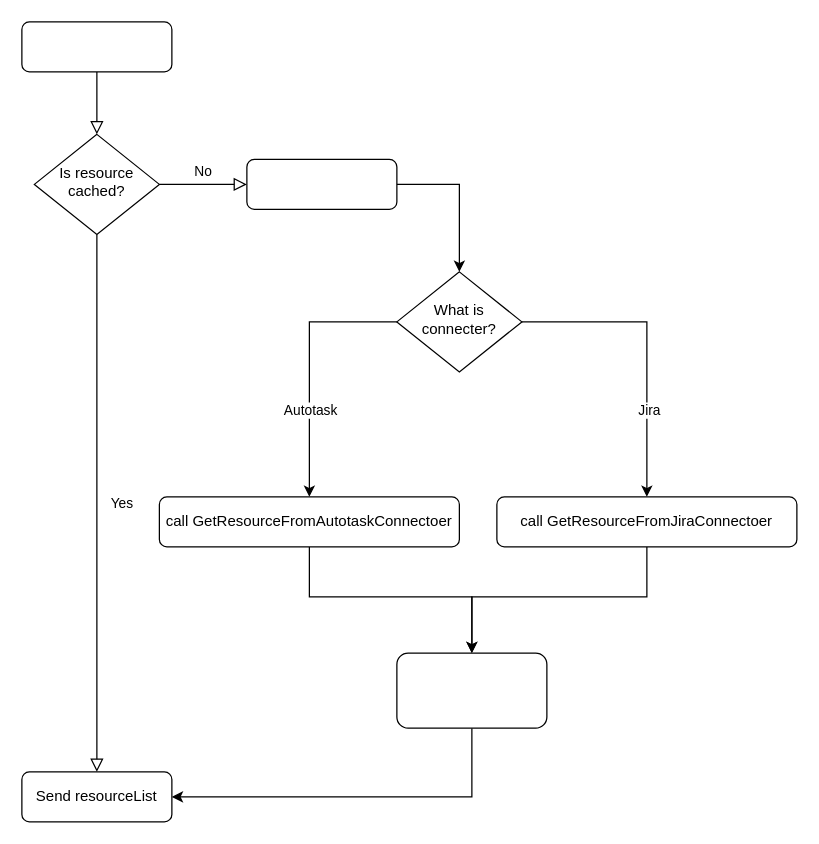
Some shapes in this 819 by 844 pixel diagram are drawn without their labels. Here are the shapes that lost their labels. From the top down, the centre of each, then its label:
(96,46): GetResources
(321,183): call GetResourceBased on connector
(471,690): Cache Resource
